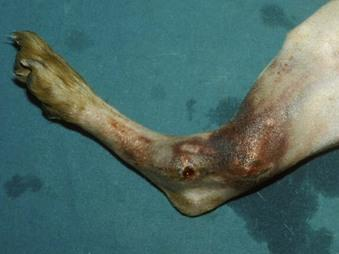fracture: (15, 9, 299, 227)
